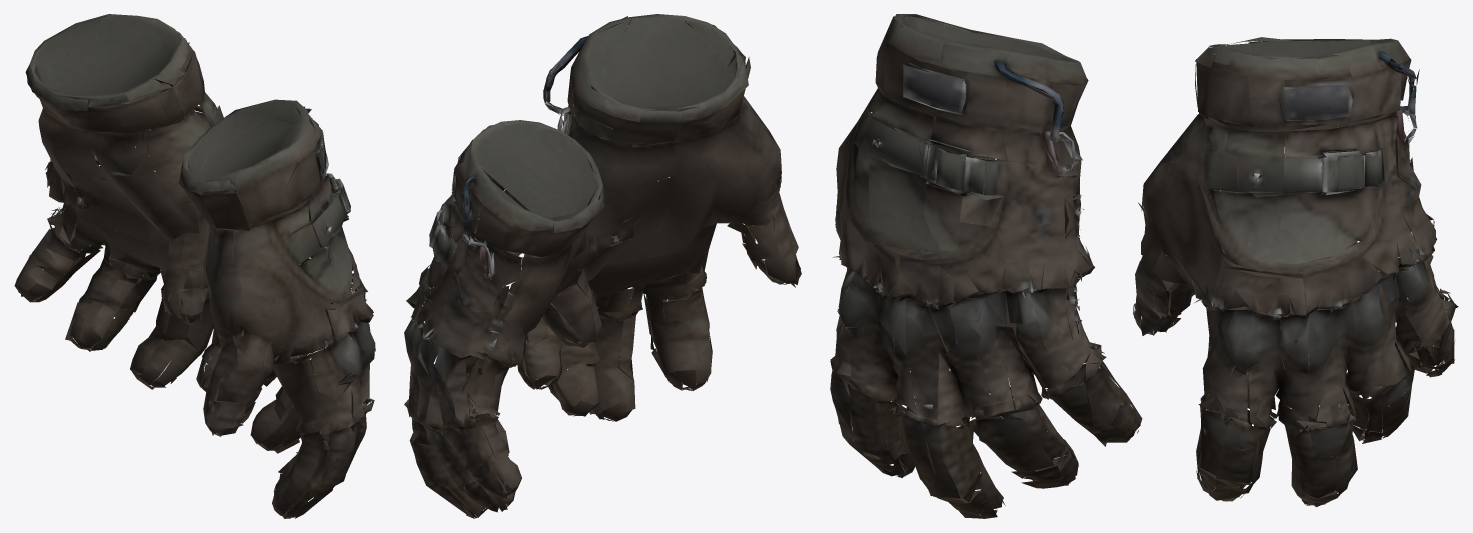
The model's file is SM_tactical_gloves_3d_model.glb.
The picture shows the model from 3 angles, left to right: view 1: azimuth 30°, elevation 25°; view 2: azimuth 150°, elevation 25°; view 3: azimuth 270°, elevation 25°; orthographic projection. The views are drawn at different scales.
Parts seen in each view (by area): view 1: SM_tactical_gloves_3d_model; view 2: SM_tactical_gloves_3d_model; view 3: SM_tactical_gloves_3d_model.
Boxes of the visible parts, x1=… form: SM_tactical_gloves_3d_model: x1=14, y1=14, x2=375, y2=518; SM_tactical_gloves_3d_model: x1=404, y1=14, x2=801, y2=518; SM_tactical_gloves_3d_model: x1=830, y1=14, x2=1458, y2=518.
Bounding box in the file's own units: 0.4931 × 0.8341 × 1.
1 material, 1 textured.
